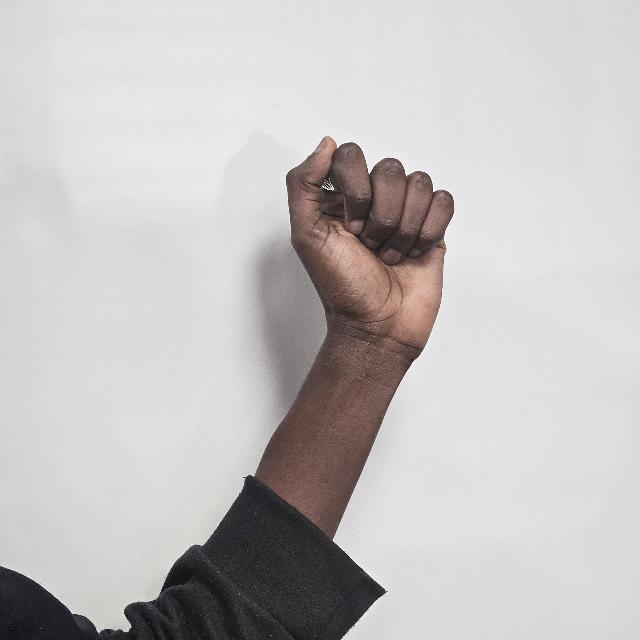Quadro: (285, 130, 453, 356)
